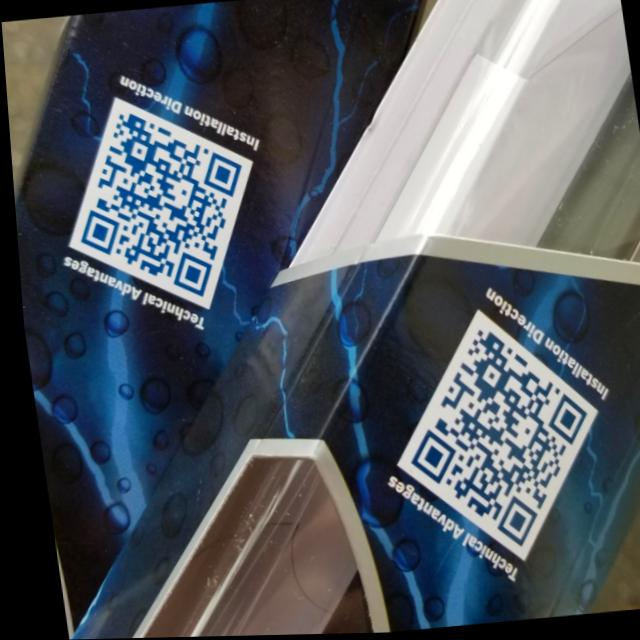QR_CODE: (362, 280, 610, 569), (42, 79, 271, 327)
